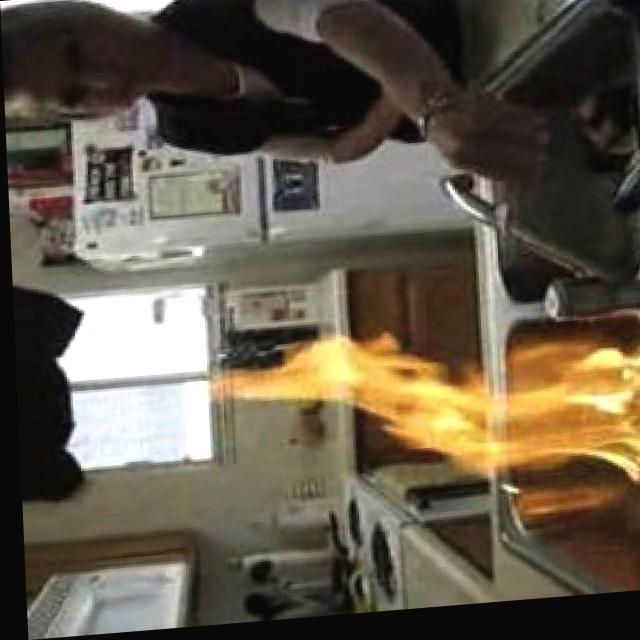Fire: (189, 320, 640, 536)
